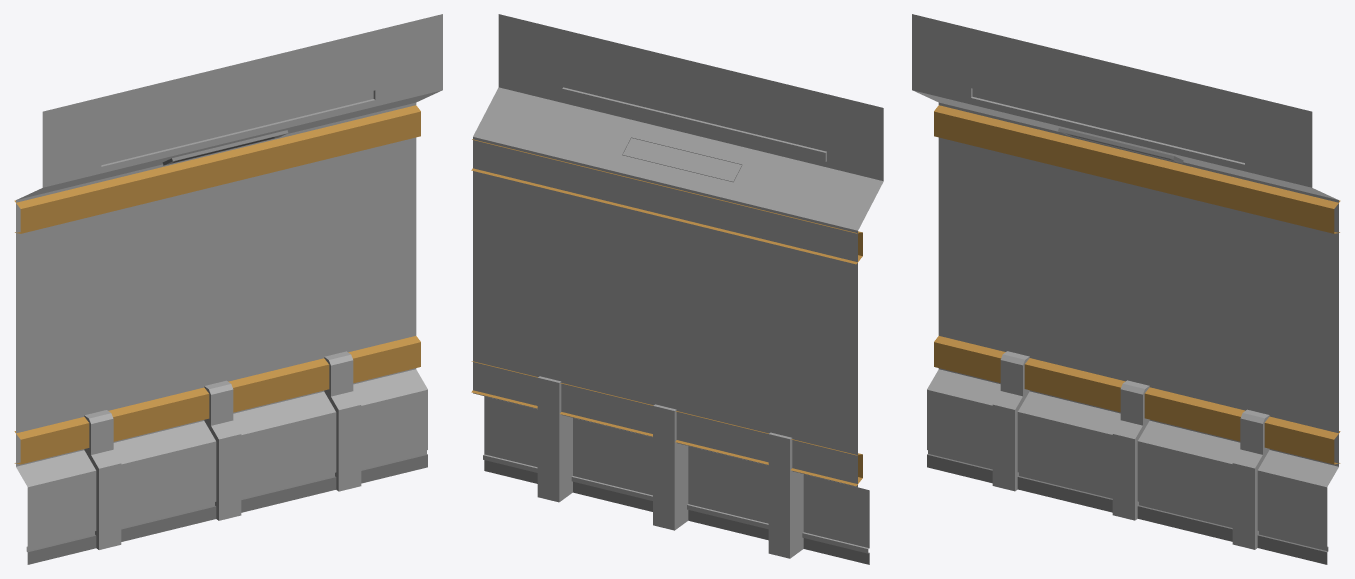
File: Wall_Empty.fbx
3 renders of one model, left to right at view 1: azimuth 30°, elevation 25°; view 2: azimuth 150°, elevation 25°; view 3: azimuth 330°, elevation 25°, orthographic. The views are drawn at different scales.
Visible parts, largest first — view 1: Wall_Empty; view 2: Wall_Empty; view 3: Wall_Empty.
Boxes of the visible parts, bbox=[...] form: Wall_Empty: bbox=[14, 14, 442, 564]; Wall_Empty: bbox=[471, 14, 883, 564]; Wall_Empty: bbox=[912, 14, 1340, 564].
Bounding box in the file's own units: 4 × 4.43 × 0.4991.
